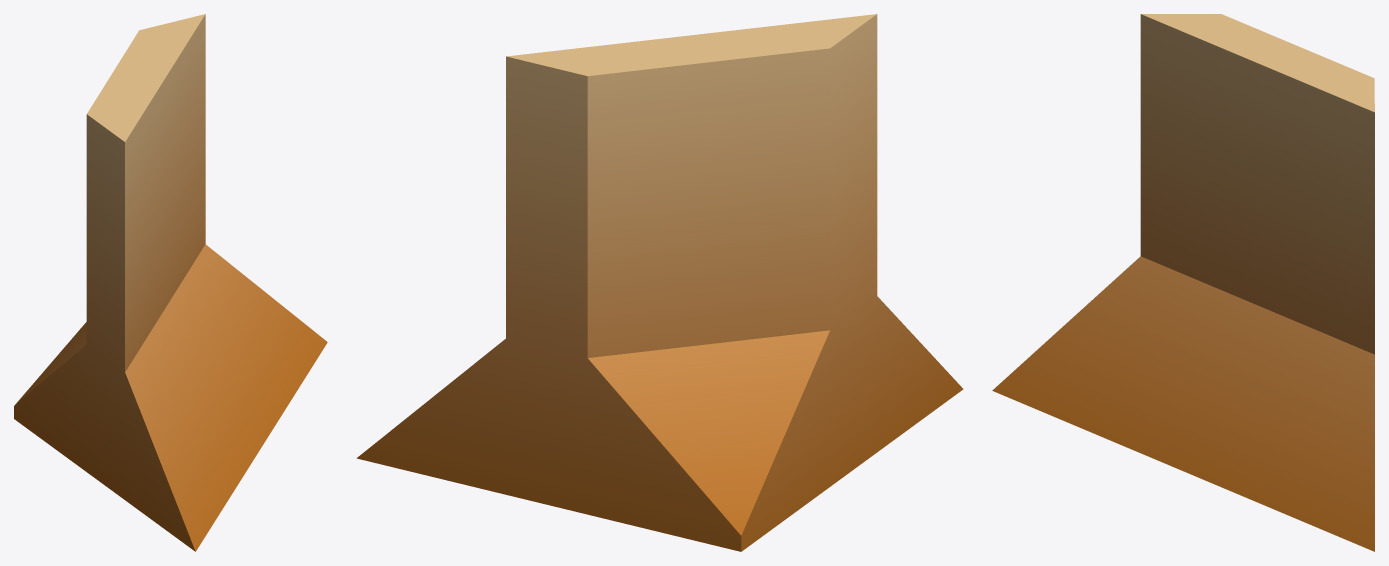
File: corridor_inner_corner.fbx
3 views of the same model, side by side, from view 1: azimuth 30°, elevation 25°; view 2: azimuth 150°, elevation 25°; view 3: azimuth 270°, elevation 25° (orthographic). The views are drawn at different scales.
Visible parts, largest first — view 1: corridor.inner.corner; view 2: corridor.inner.corner; view 3: corridor.inner.corner.
Boxes of the visible parts, left/top/right/bottom form: corridor.inner.corner: left=14, top=14, right=327, bottom=551; corridor.inner.corner: left=356, top=14, right=963, bottom=551; corridor.inner.corner: left=992, top=14, right=1374, bottom=551.
Size of the model in its own units: 24.97 by 27.2 by 25.05.
